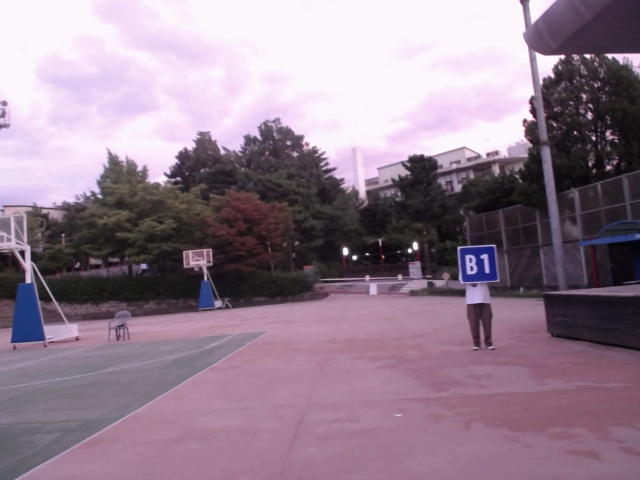delivery_b1: (457, 244, 497, 283)
